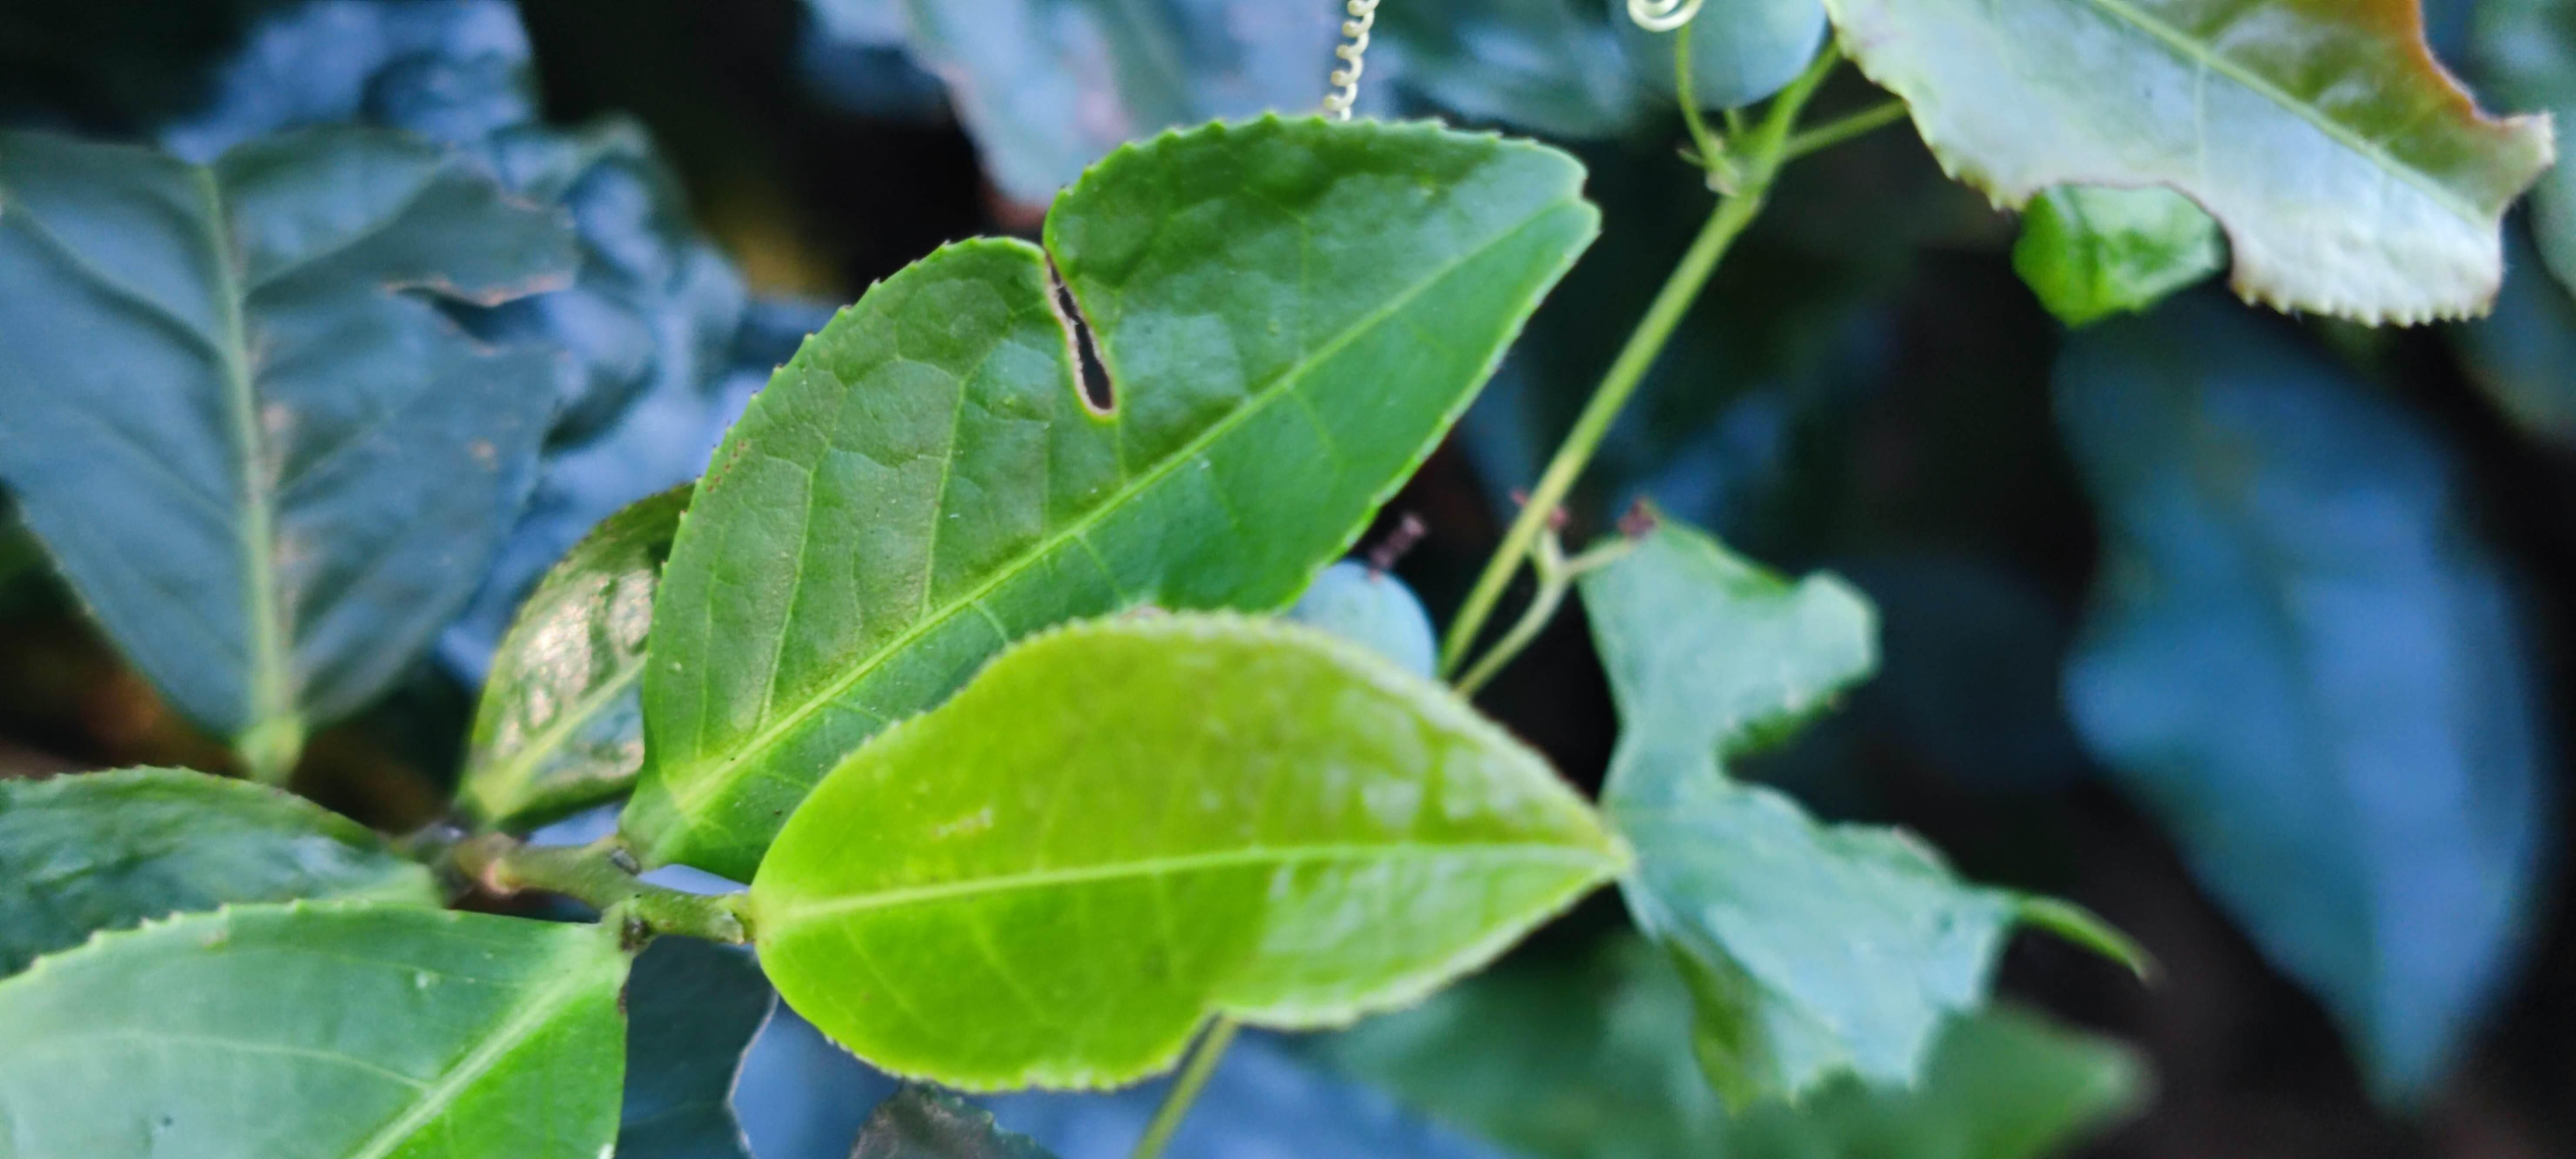chihuo_high: (8, 107, 588, 740), (1825, 3, 2556, 335)
chihuo_low: (629, 108, 1612, 878)
healthy: (743, 606, 1635, 1092), (2, 898, 632, 1152)
